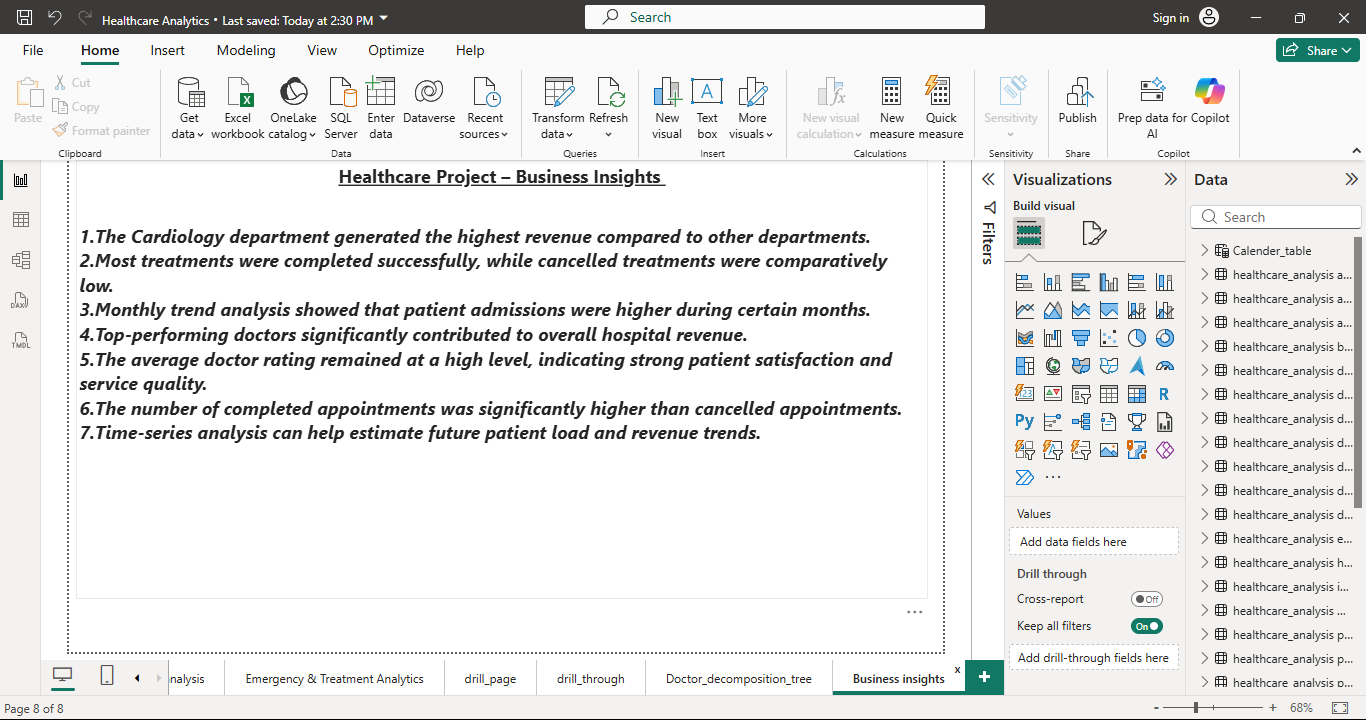

What the dashboard file says about the page in this screenshot:
{"tool":"powerbi","page":{"name":"Business insights","canvas":[1280,720],"ordinal":7},"visuals":[{"type":"textbox","box":[9.9,0,1247,642.5],"z":0}]}

Visuals, with their boxes on the page's 1280x720 design canvas (x1, y1, x2, y2). These are canvas units, not pixel positions in the 1366x720 screenshot, which may show the page scaled, cropped or inside an application window:
textbox: [x1=10, y1=0, x2=1257, y2=642]
